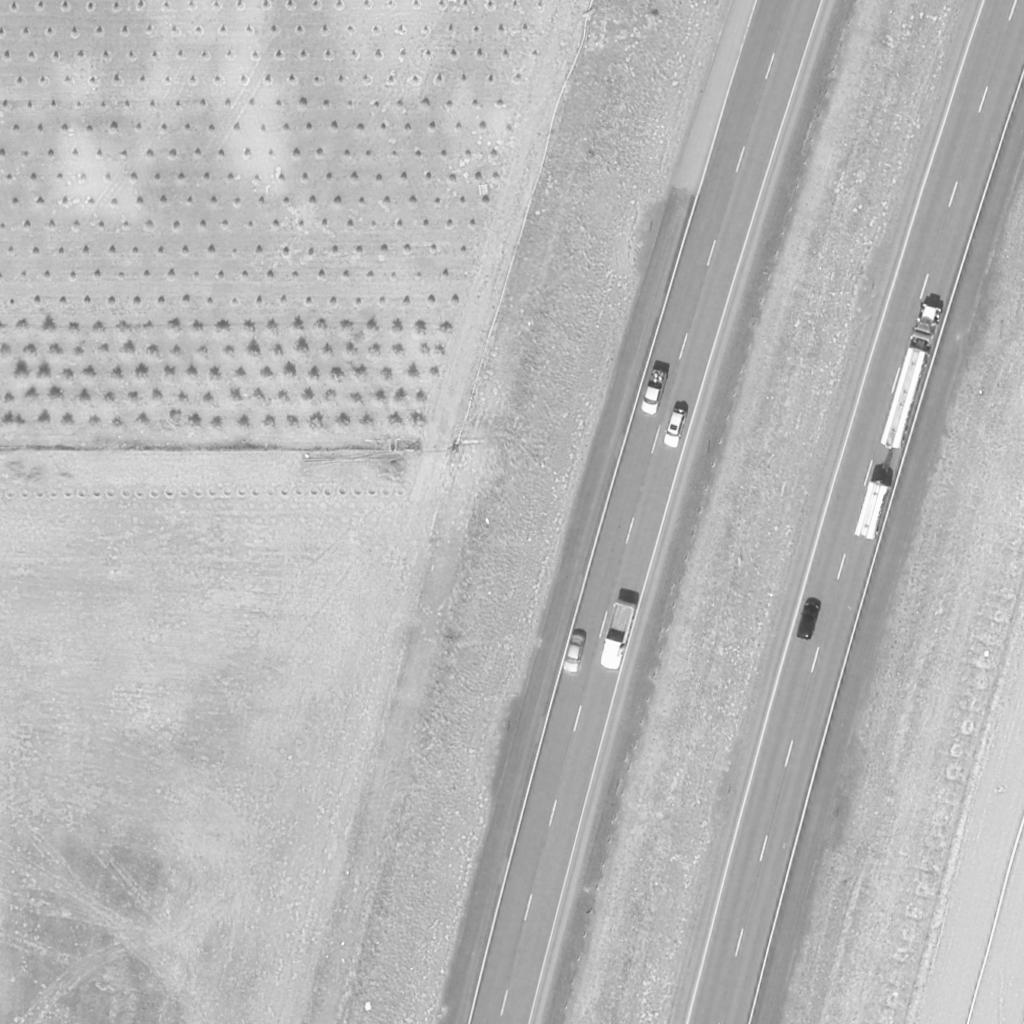vehicle: (880, 304, 944, 452), (597, 600, 637, 672), (637, 368, 671, 416), (663, 407, 687, 449), (562, 635, 586, 675), (799, 601, 819, 641)
